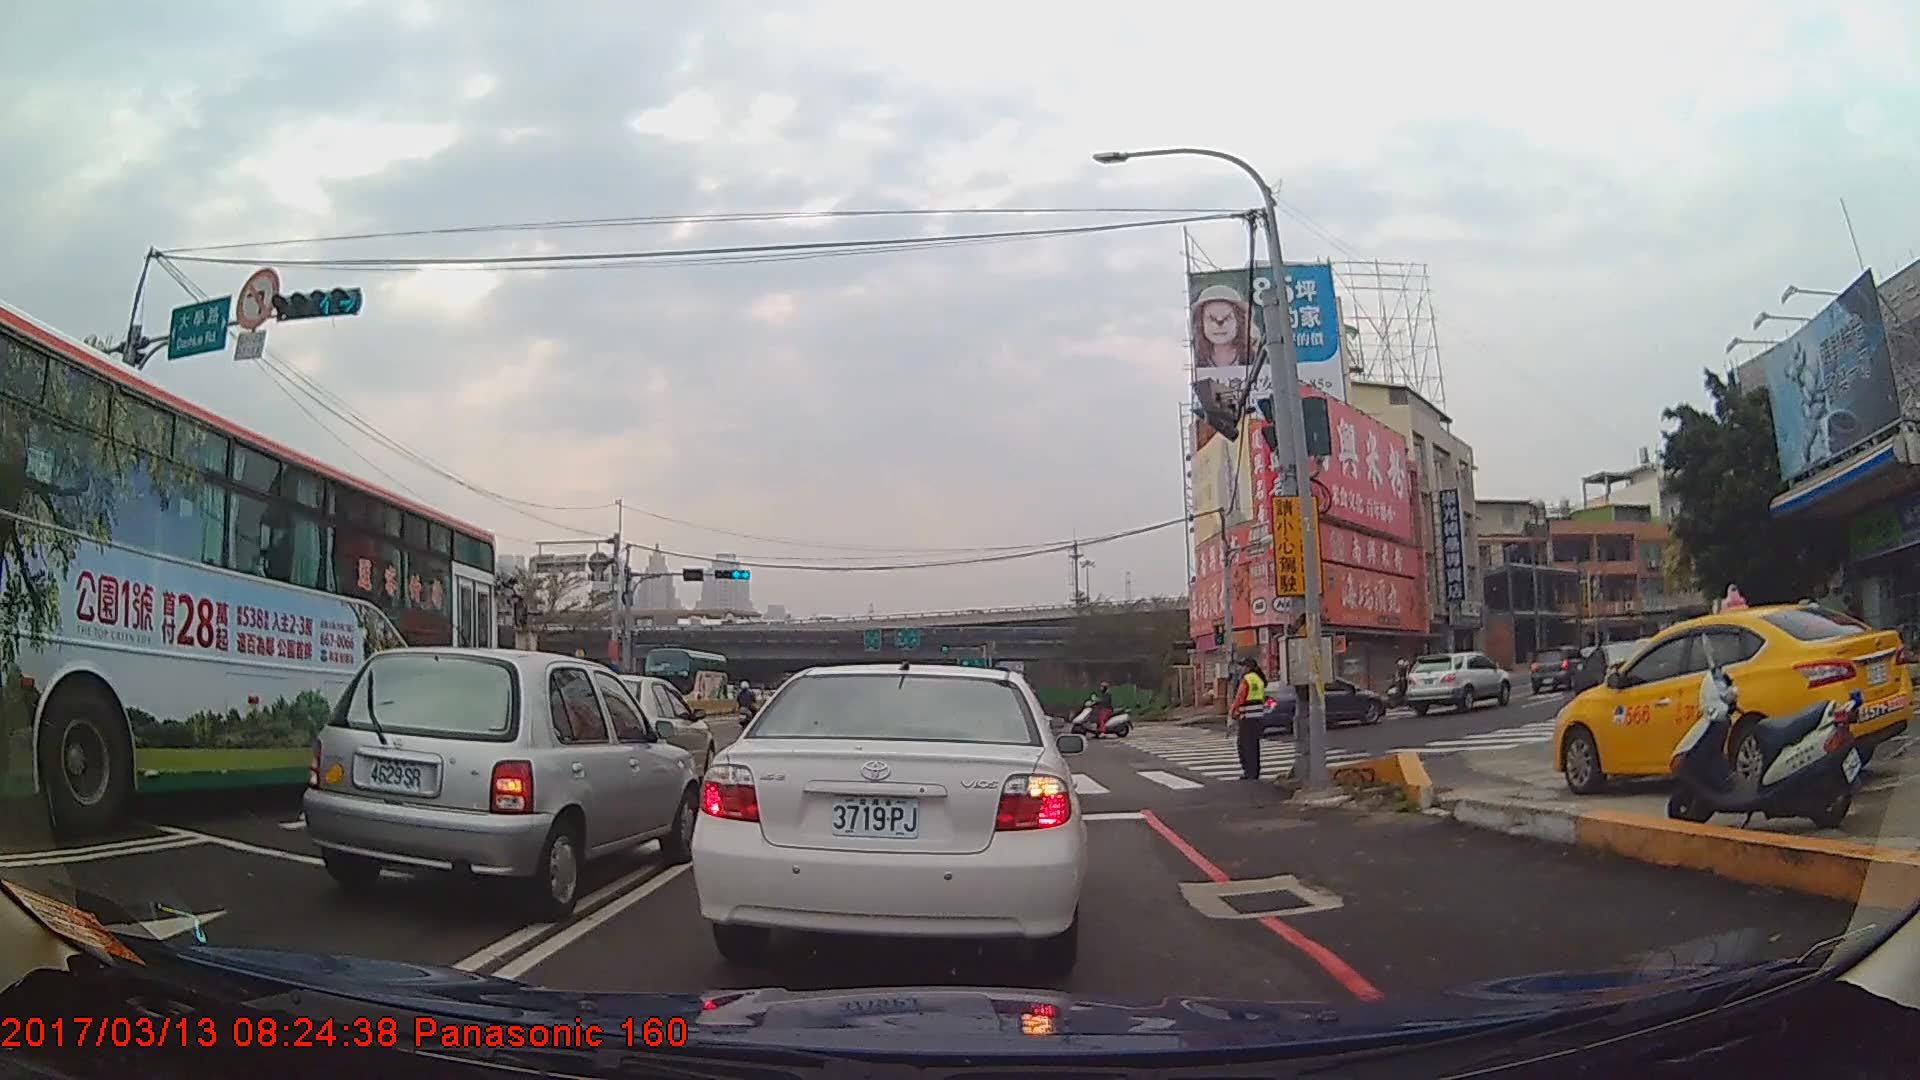pedestrian: (1229, 659, 1272, 787)
rider: (1073, 682, 1135, 739), (1386, 659, 1420, 710), (737, 681, 761, 733)
vehicle: (0, 287, 494, 831), (691, 656, 1087, 966), (300, 645, 698, 919), (1551, 602, 1912, 795), (1232, 672, 1383, 737), (1406, 649, 1512, 714), (643, 645, 727, 708), (1528, 646, 1587, 692)
